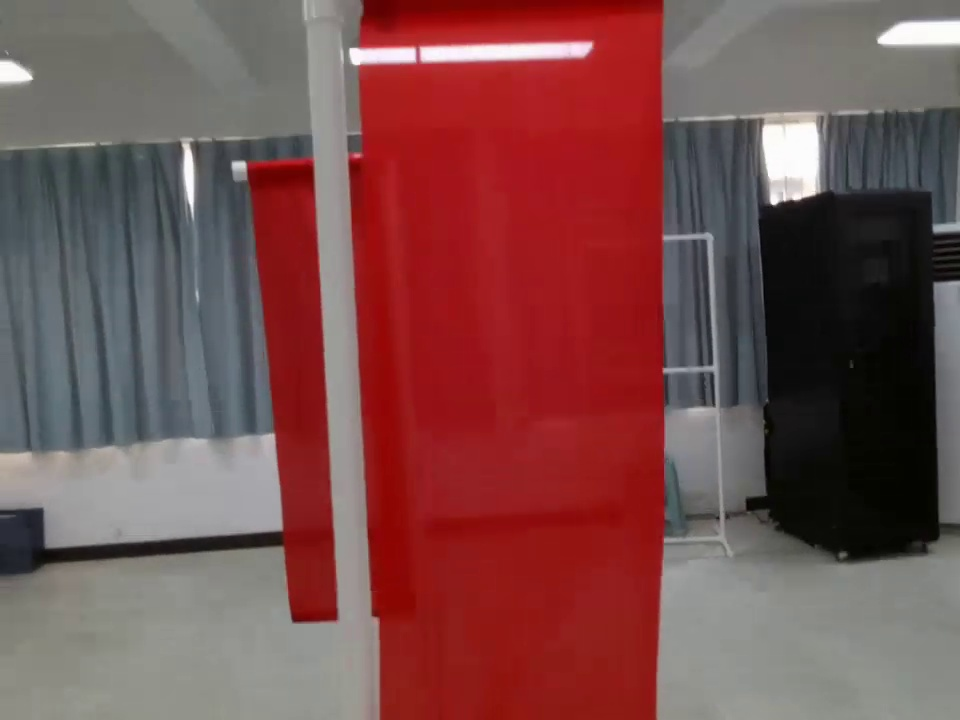qi: (300, 5, 666, 720)
